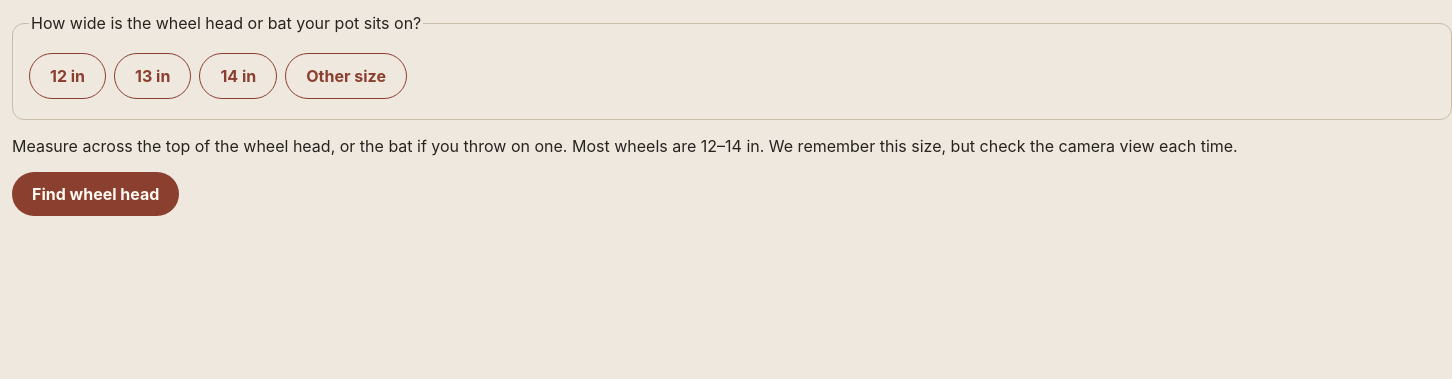
Scenario: explains an implausible custom size instead of searching
Click the button "Other size": {"x": 346, "y": 76} [285,53,407,99]
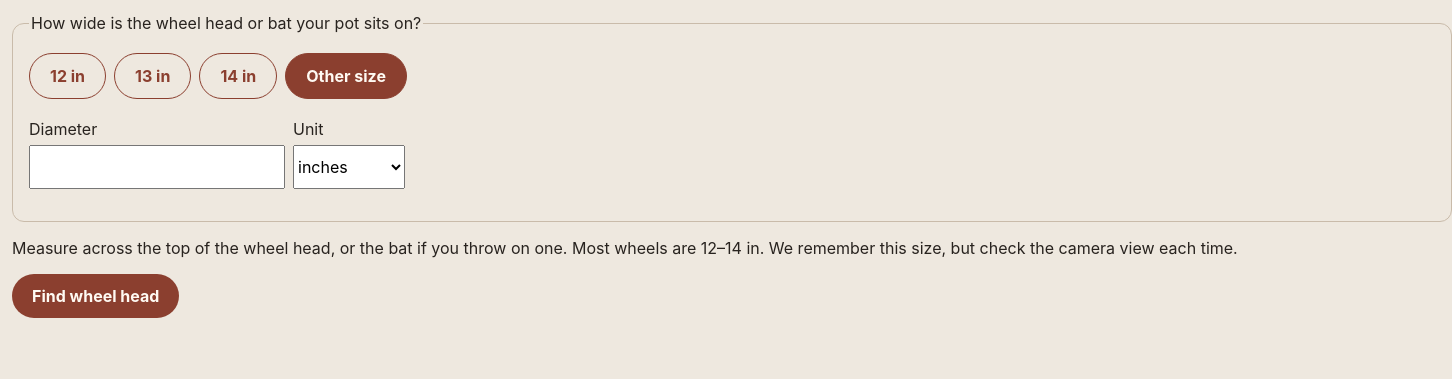
In the field labelled "Diameter": {"x": 157, "y": 167} [29,145,285,189], type "3"
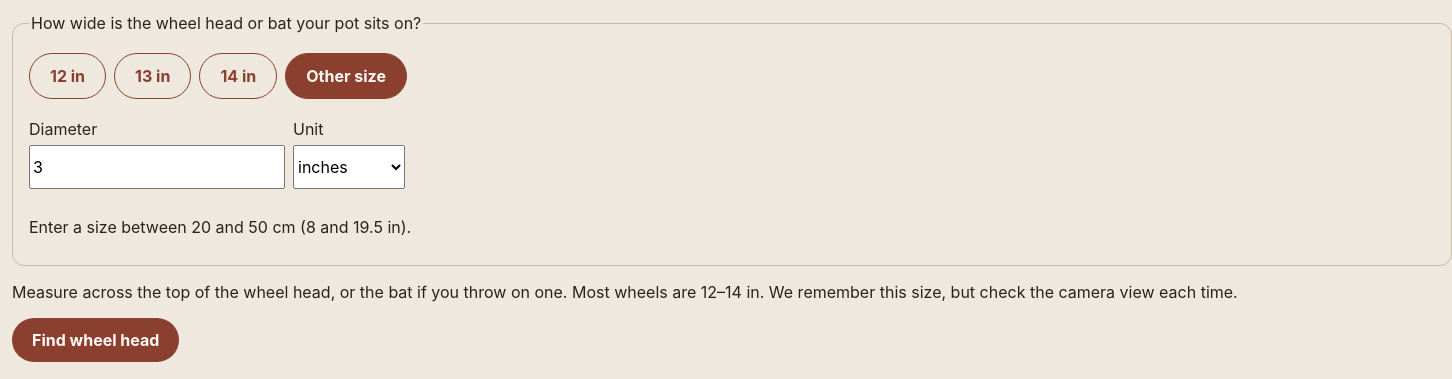
expect the button "Find wheel head" is disabled: met, box [12,318,179,362]
expect the message "Enter a size between 20 and 50 cm (8 and 19.5 in)." is shown: met, box [29,217,411,237]
